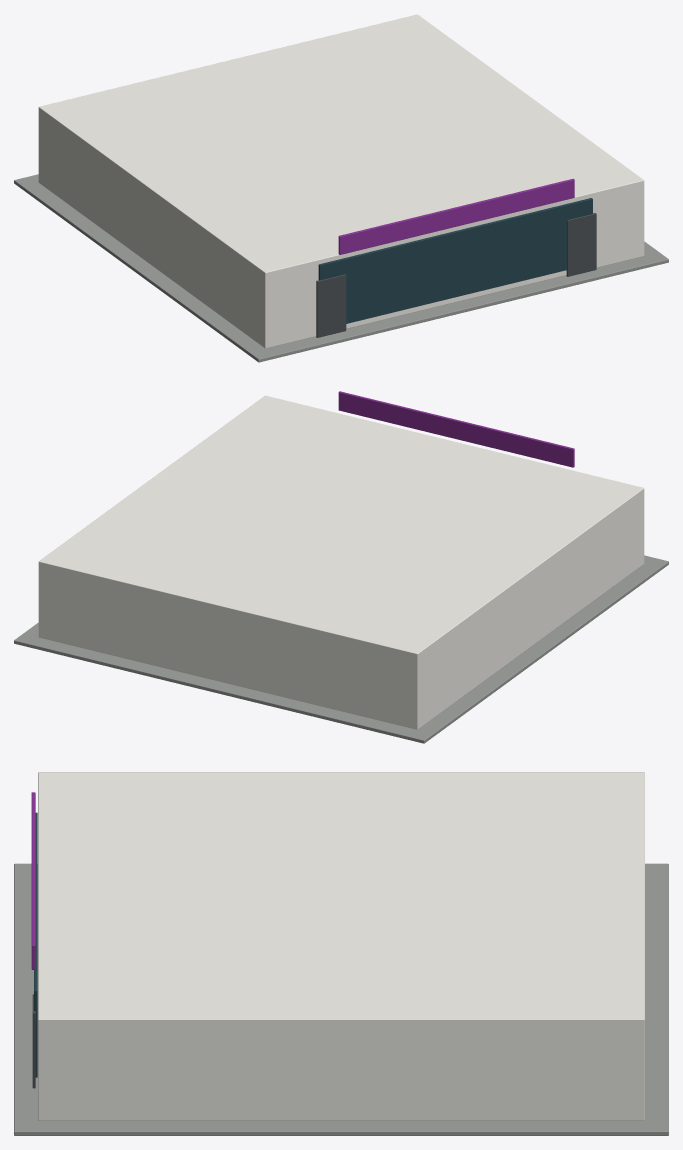
The model's file is Building_Commercial_004.glb.
The picture shows the model from 3 angles, top to bottom: view 1: azimuth 30°, elevation 25°; view 2: azimuth 150°, elevation 25°; view 3: azimuth 270°, elevation 25°; orthographic projection. The views are drawn at different scales.
Visible parts, largest first — view 1: Building_Commercial_004; view 2: Building_Commercial_004; view 3: Building_Commercial_004.
Part boxes in pixels (x1,y1,x2,y2): Building_Commercial_004: [14, 14, 668, 362]; Building_Commercial_004: [14, 391, 668, 743]; Building_Commercial_004: [14, 772, 668, 1135].
Bounding box in the file's own units: 19.75 × 4.59 × 20.41.
